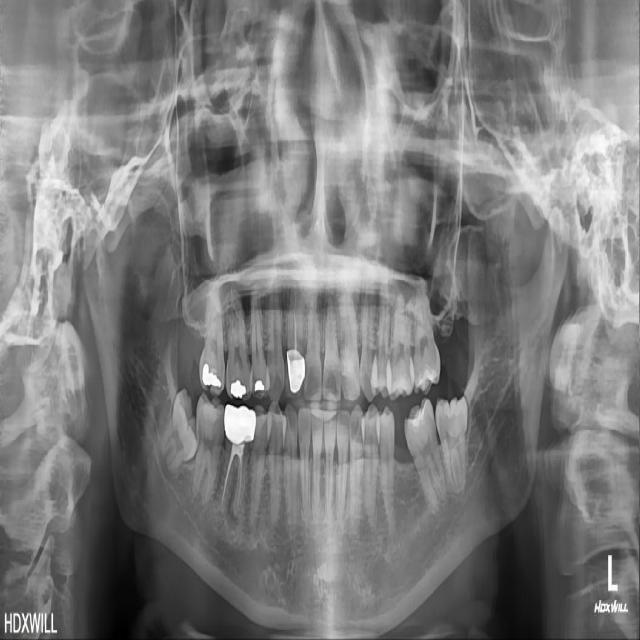Crown: (223, 402, 257, 445), (284, 349, 306, 398)
Filling: (200, 360, 223, 391), (229, 379, 248, 398), (251, 376, 268, 395), (410, 407, 423, 428)
Missing teeth: (396, 414, 415, 464)
Periapical lesion: (227, 474, 241, 523)
Root Canal Treatment: (224, 453, 235, 497), (236, 454, 243, 509), (243, 513, 259, 535), (293, 291, 298, 350), (238, 455, 240, 483)
impacted tooth: (158, 392, 198, 476), (435, 400, 467, 493)
